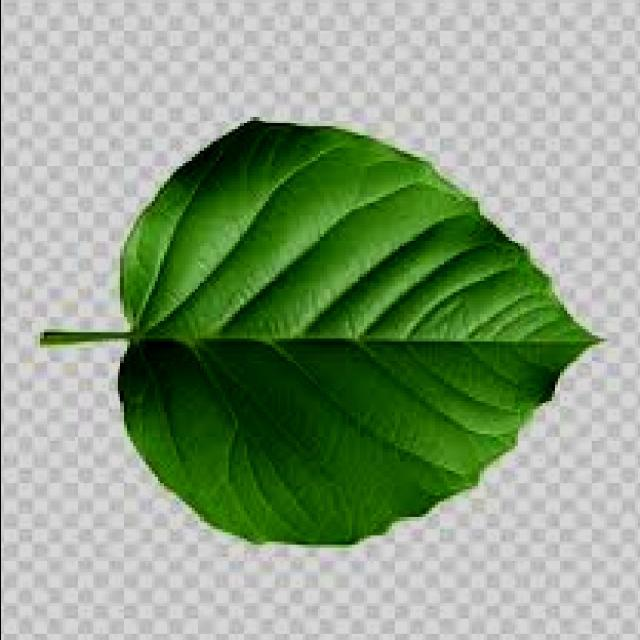leaf: (40, 116, 607, 547)
